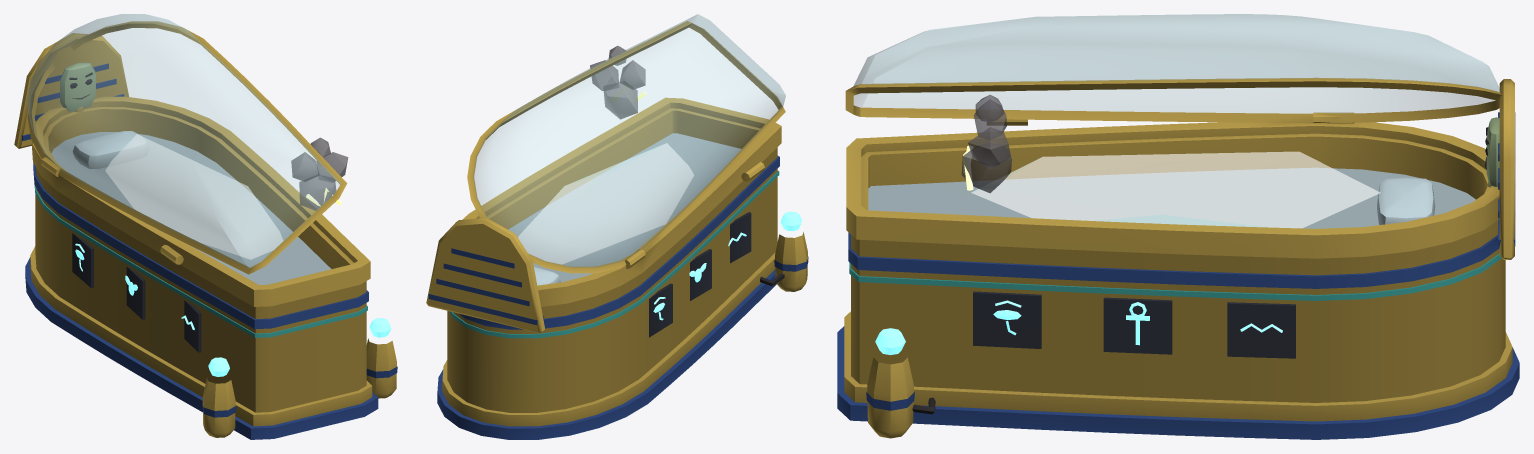
File: sarcophagus_cryo.glb
3 renders of one model, left to right at view 1: azimuth 30°, elevation 25°; view 2: azimuth 150°, elevation 25°; view 3: azimuth 270°, elevation 25°, orthographic. The views are drawn at different scales.
Visible parts, largest first — view 1: sarcophagus_cryo, frost, broken, glow; view 2: sarcophagus_cryo, frost, broken, glow; view 3: sarcophagus_cryo, frost, broken, glow.
Part boxes in pixels (box(x1,y1,x2,y2)): sarcophagus_cryo: box(14, 14, 397, 439); frost: box(105, 134, 282, 259); broken: box(291, 137, 348, 210); glow: box(75, 243, 391, 376); sarcophagus_cryo: box(426, 14, 808, 439); frost: box(518, 143, 693, 264); broken: box(590, 45, 646, 119); glow: box(653, 211, 802, 320); sarcophagus_cryo: box(837, 14, 1519, 439); frost: box(971, 151, 1380, 228); broken: box(961, 94, 1011, 193); glow: box(875, 300, 1282, 355).
Size of the model in its own units: 0.882 by 1.18 by 1.99.
